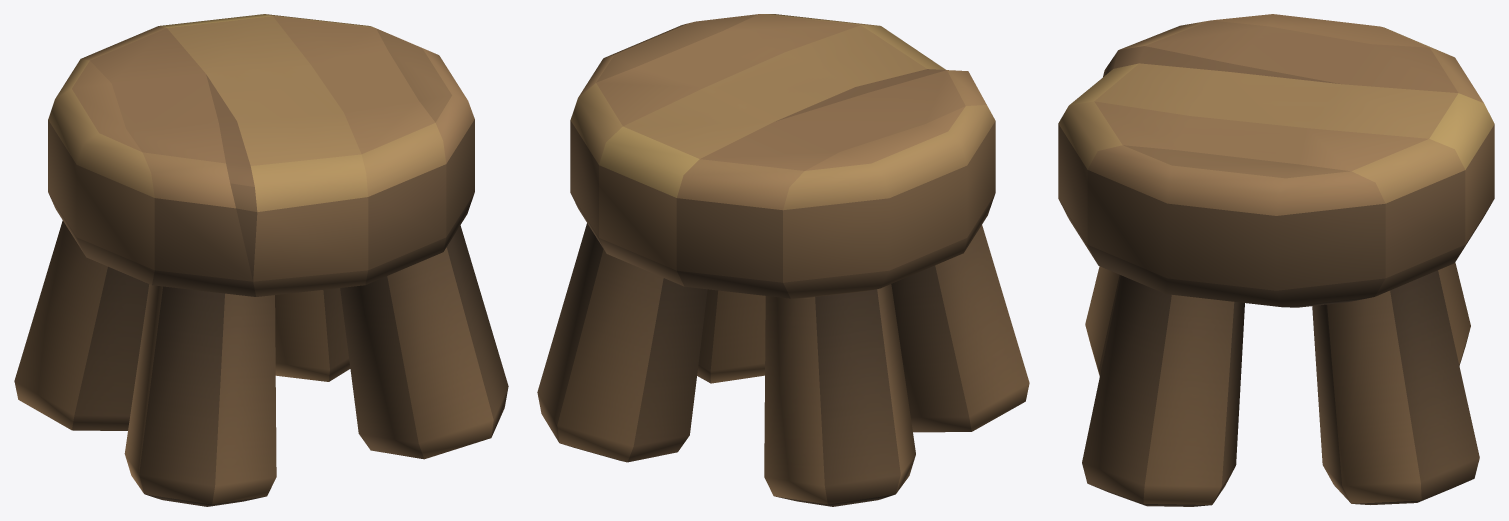
File: tavern_stool.fbx
3 views of the same model, side by side, from view 1: azimuth 30°, elevation 25°; view 2: azimuth 150°, elevation 25°; view 3: azimuth 270°, elevation 25° (orthographic). The views are drawn at different scales.
Parts seen in each view (by area): view 1: tavern_stool_LOD0; view 2: tavern_stool_LOD0; view 3: tavern_stool_LOD0.
Boxes of the visible parts, <box> form: tavern_stool_LOD0: <box>14,14,508,506</box>; tavern_stool_LOD0: <box>537,14,1029,506</box>; tavern_stool_LOD0: <box>1058,14,1494,506</box>.
Size of what is drawn, in the model's own units: 56.56 by 49.45 by 56.54.
